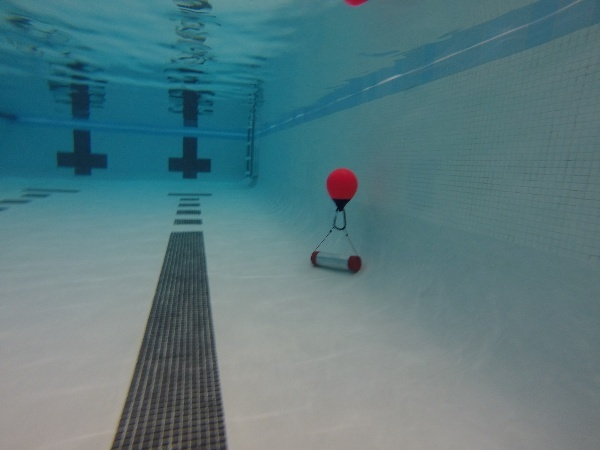buoy_red: (324, 167, 360, 216)
